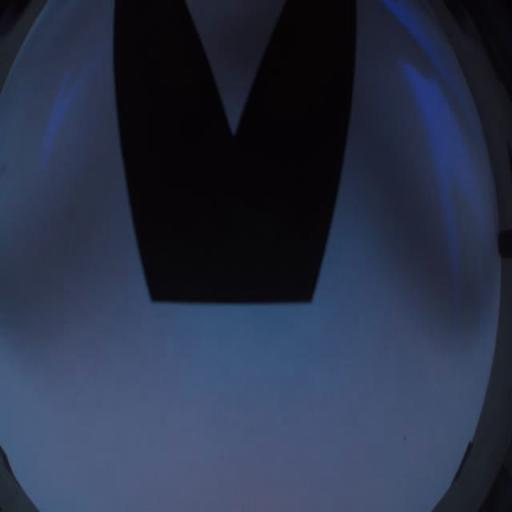A: (113, 0, 358, 303)
